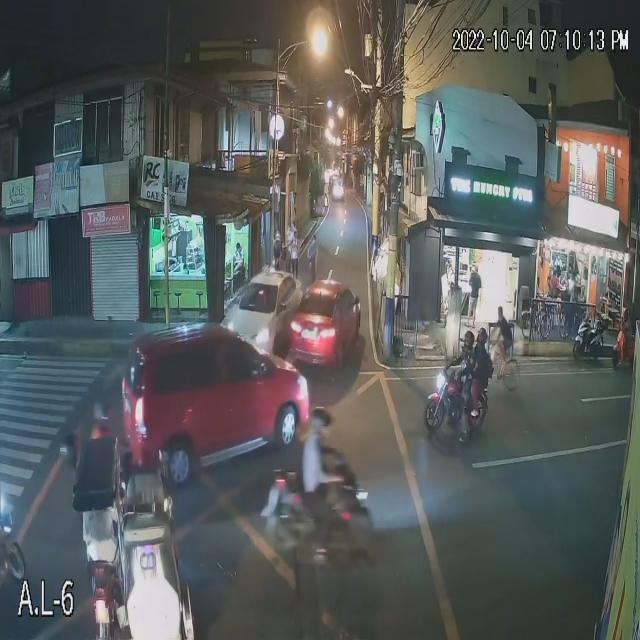helmet: (303, 406, 338, 440), (457, 327, 477, 353), (475, 328, 491, 350)
motorcycle: (258, 457, 374, 561), (423, 364, 489, 445), (571, 315, 608, 360)
rider: (300, 450, 359, 513), (449, 350, 478, 419), (469, 353, 493, 411)
